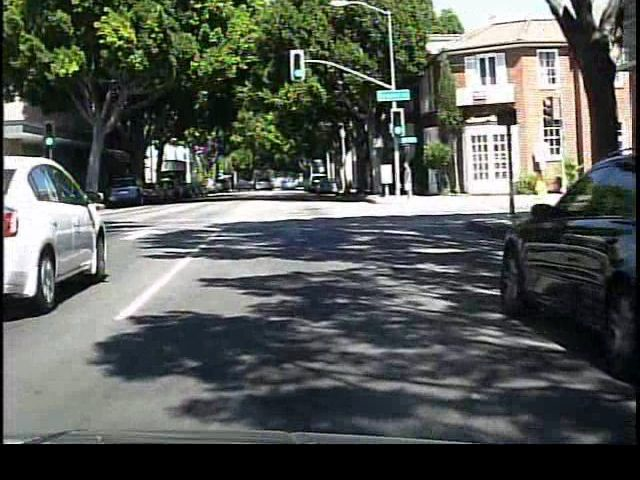person: (400, 157, 420, 205)
